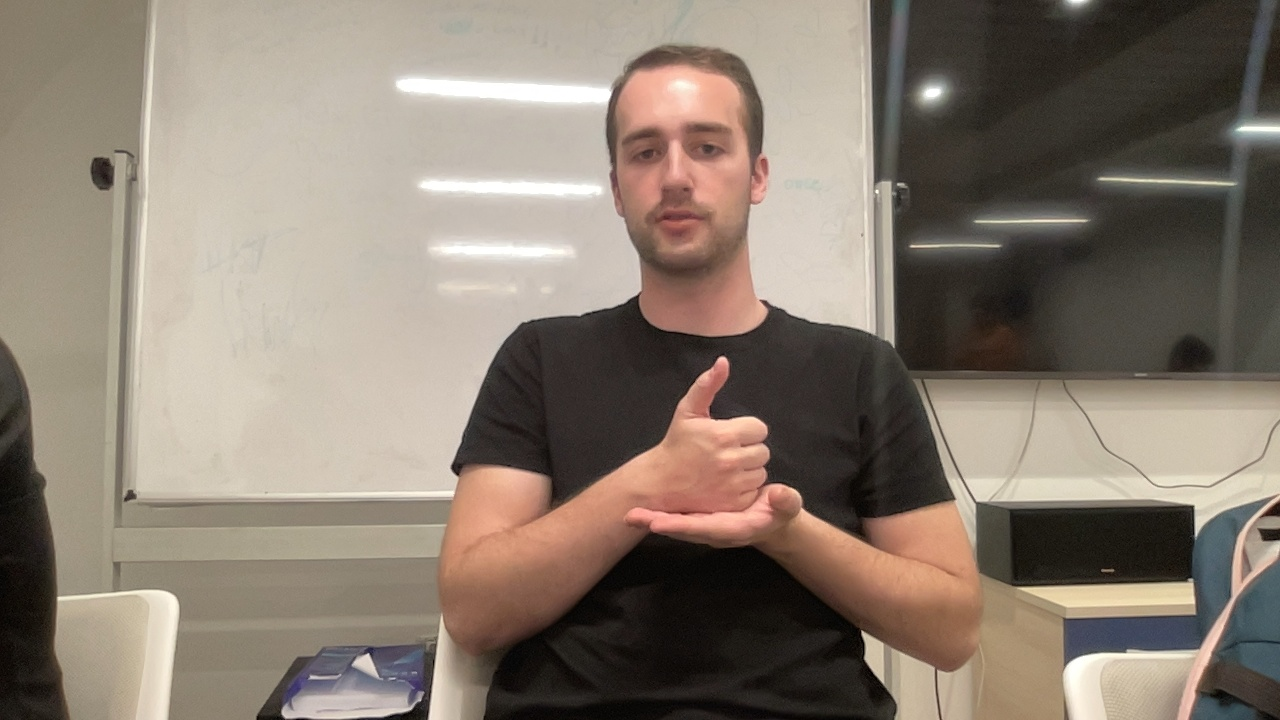Help: (618, 351, 808, 559)
